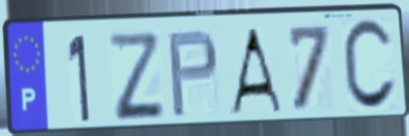1: (66, 32, 93, 125)
7: (287, 22, 334, 115)
A: (226, 25, 285, 116)
C: (340, 17, 399, 115)
P: (165, 27, 221, 120)
Z: (105, 30, 168, 124)
